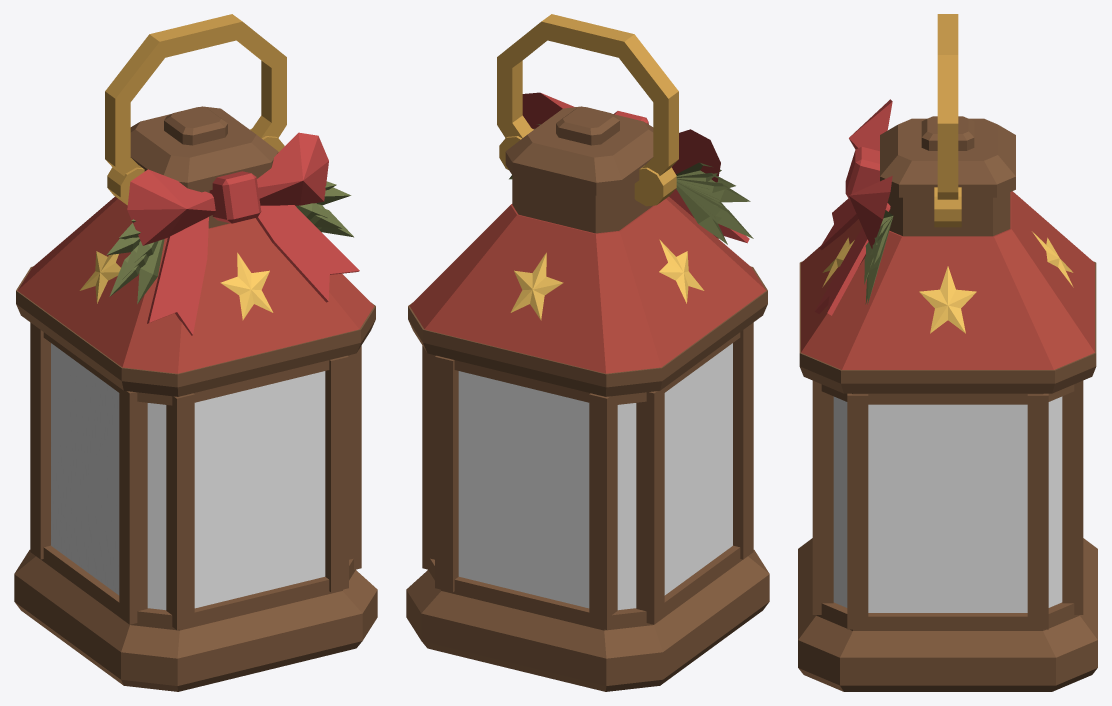
The model's file is 17 Vintage Lantern.glb.
3 views of the same model, side by side, from view 1: azimuth 30°, elevation 25°; view 2: azimuth 150°, elevation 25°; view 3: azimuth 270°, elevation 25° (orthographic).
Parts seen in each view (by area): view 1: Red sloping canopy, Glass pane, Beveled bottom plinth, Bow knot, Glass pane.006, Octagonal brass carry handle, Roof bronze eave, Chimney cap, Bronze upright.001, Bronze upright, Bronze upright.002, Lower frame rail (+10 smaller); view 2: Red sloping canopy, Glass pane.004, Beveled bottom plinth, Glass pane.006, Octagonal brass carry handle, Roof bronze eave, Chimney cap, Bronze upright.006, Bronze upright.007, Bronze upright.005, Lower frame rail, Vent housing (+10 smaller); view 3: Red sloping canopy, Glass pane.002, Beveled bottom plinth, Roof bronze eave, Chimney cap, Bow knot, Bronze upright.003, Bronze upright.004, Bronze upright.002, Bronze upright.005, Octagonal brass carry handle, Lower frame rail (+8 smaller).
Part boxes in pixels (box(x1,y1,x2,y2)): Red sloping canopy: box(17, 196, 373, 373); Glass pane: box(194, 371, 325, 608); Beveled bottom plinth: box(14, 550, 377, 691); Bow knot: box(127, 132, 359, 335); Glass pane.006: box(51, 343, 119, 595); Octagonal brass carry handle: box(105, 14, 286, 175); Roof bronze eave: box(16, 266, 375, 396); Chimney cap: box(130, 106, 278, 192); Bronze upright.001: box(166, 393, 194, 629); Bronze upright: box(119, 388, 147, 624); Bronze upright.002: box(325, 355, 348, 592); Lower frame rail: box(41, 545, 355, 630); Red sloping canopy: box(410, 196, 766, 373); Glass pane.004: box(458, 371, 589, 608); Beveled bottom plinth: box(406, 550, 769, 691); Glass pane.006: box(664, 343, 732, 595); Octagonal brass carry handle: box(497, 14, 678, 175); Roof bronze eave: box(408, 266, 767, 396); Chimney cap: box(505, 106, 653, 195); Bronze upright.006: box(589, 393, 617, 629); Bronze upright.007: box(636, 388, 664, 624); Bronze upright.005: box(435, 355, 458, 592); Lower frame rail: box(428, 545, 742, 630); Vent housing: box(512, 175, 652, 233); Red sloping canopy: box(801, 191, 1094, 369); Glass pane.002: box(868, 404, 1027, 612); Beveled bottom plinth: box(798, 538, 1097, 691); Roof bronze eave: box(799, 261, 1096, 393); Chimney cap: box(880, 118, 1015, 197); Bow knot: box(815, 99, 892, 315); Bronze upright.003: box(847, 393, 868, 629); Bronze upright.004: box(1027, 393, 1048, 629); Bronze upright.002: box(812, 381, 833, 614); Bronze upright.005: box(1062, 381, 1083, 614); Octagonal brass carry handle: box(937, 14, 958, 199); Lower frame rail: box(816, 602, 1079, 630).
Bounding box in the file's own units: 1.86 × 4.08 × 1.86.
